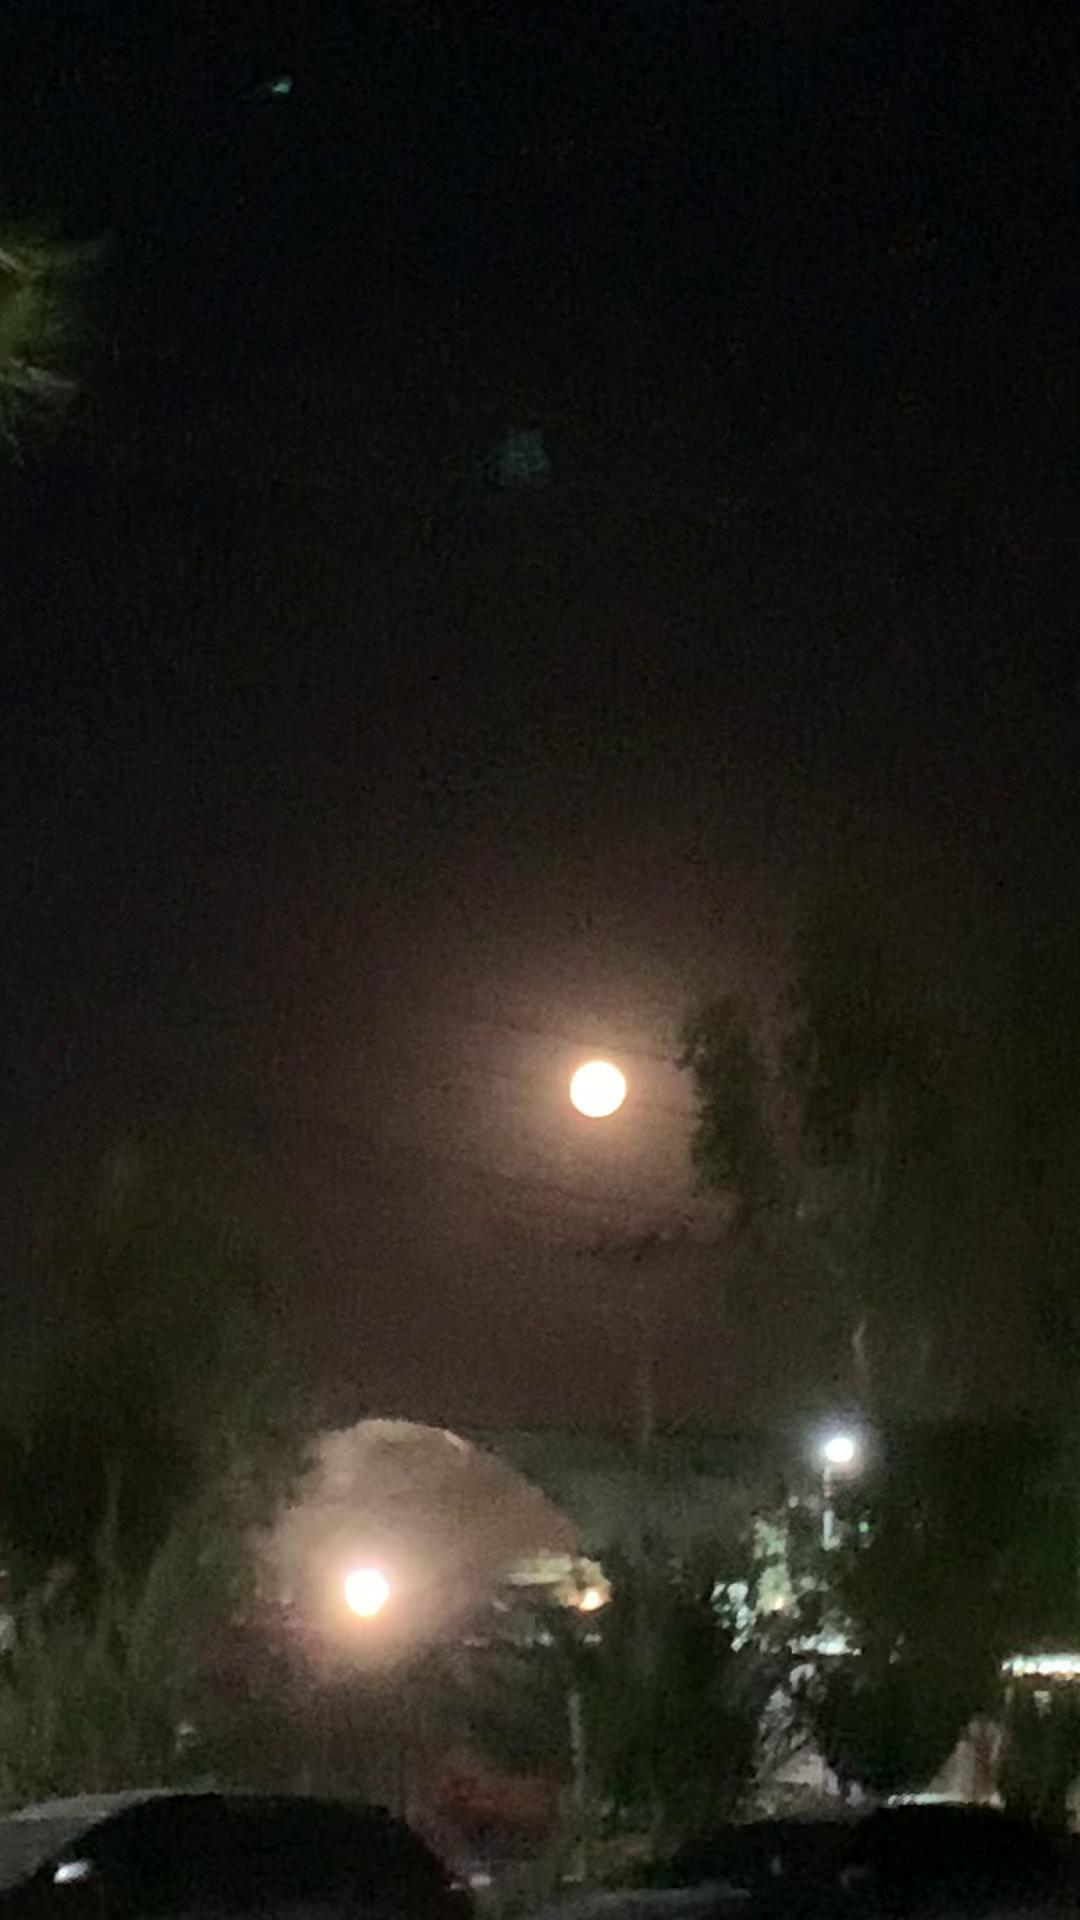moon: (558, 1063, 629, 1134)
